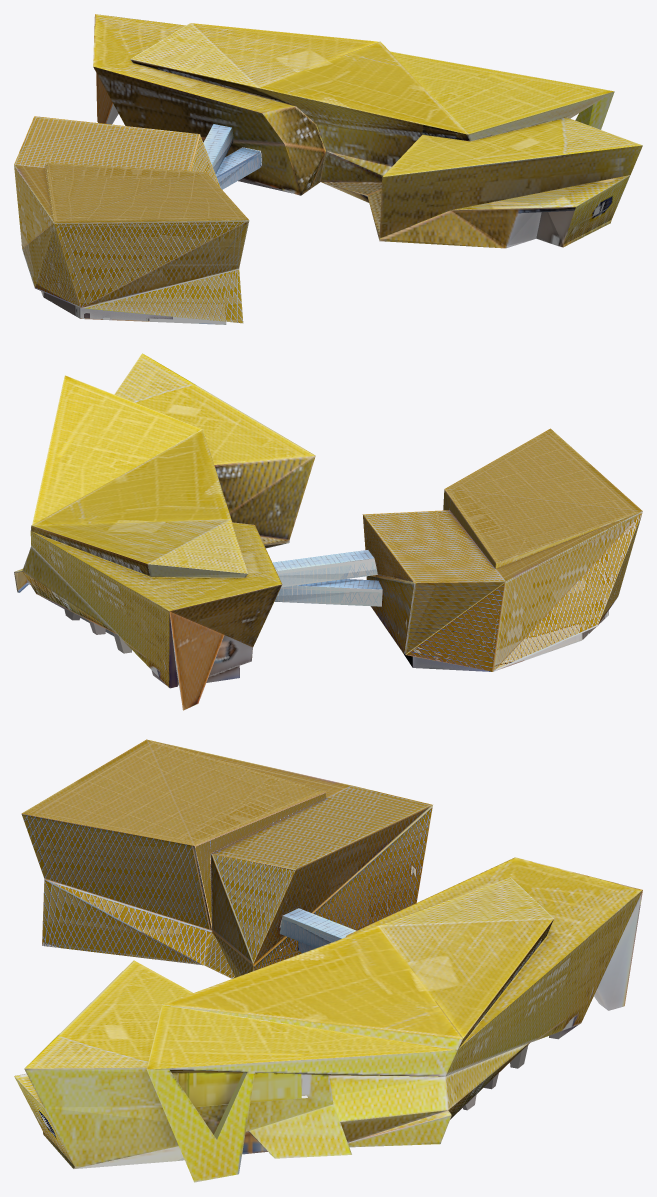
3 views of the same model, one above another, from view 1: azimuth 30°, elevation 25°; view 2: azimuth 150°, elevation 25°; view 3: azimuth 270°, elevation 25° (orthographic). The views are drawn at different scales.
Visible parts, largest first — view 1: Plane.002; view 2: Plane.002; view 3: Plane.002.
Part boxes in pixels (x1,y1,x2,y2): Plane.002: (14,14,642,324); Plane.002: (14,353,642,710); Plane.002: (14,739,642,1182).
Bounding box in the file's own units: 158 × 30.43 × 129.
Materials: 2 (2 with a texture image).
